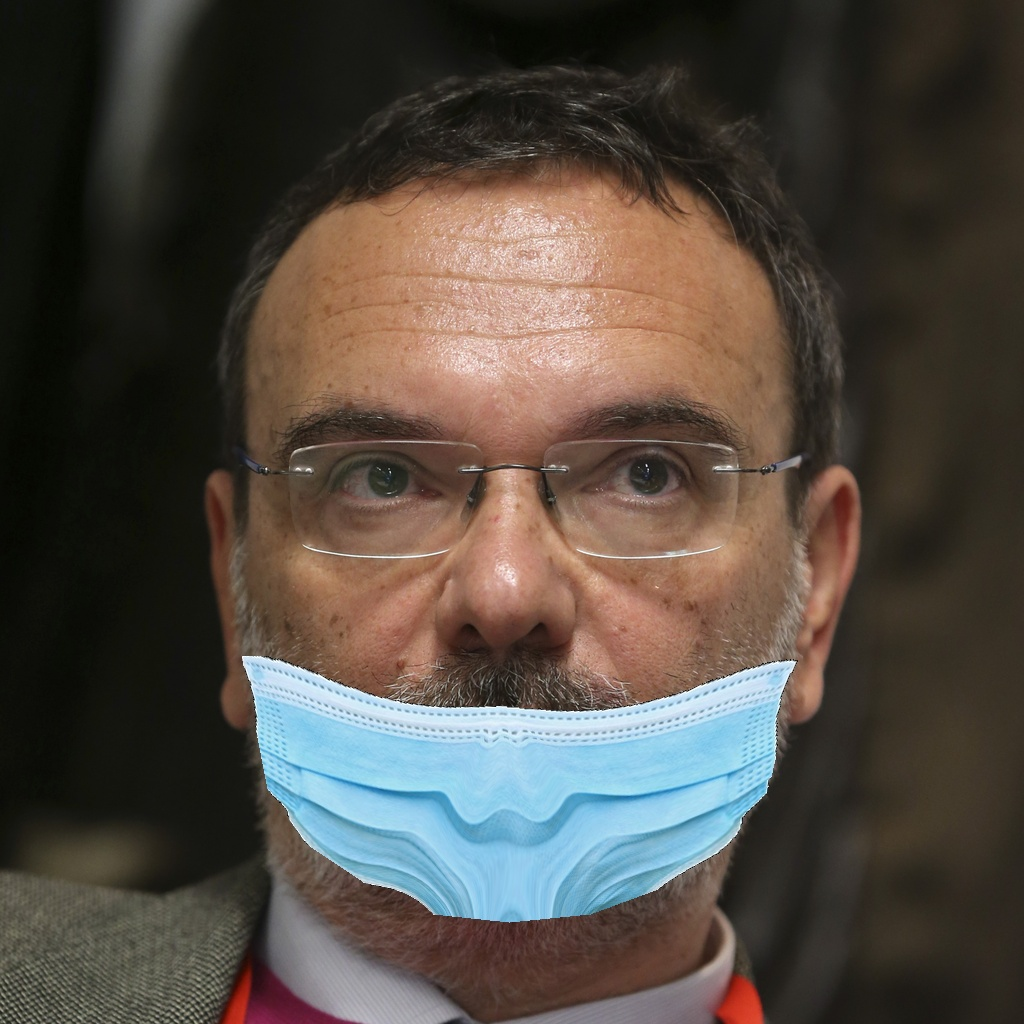mascarilla_mal_puesta: (234, 393, 829, 978)
